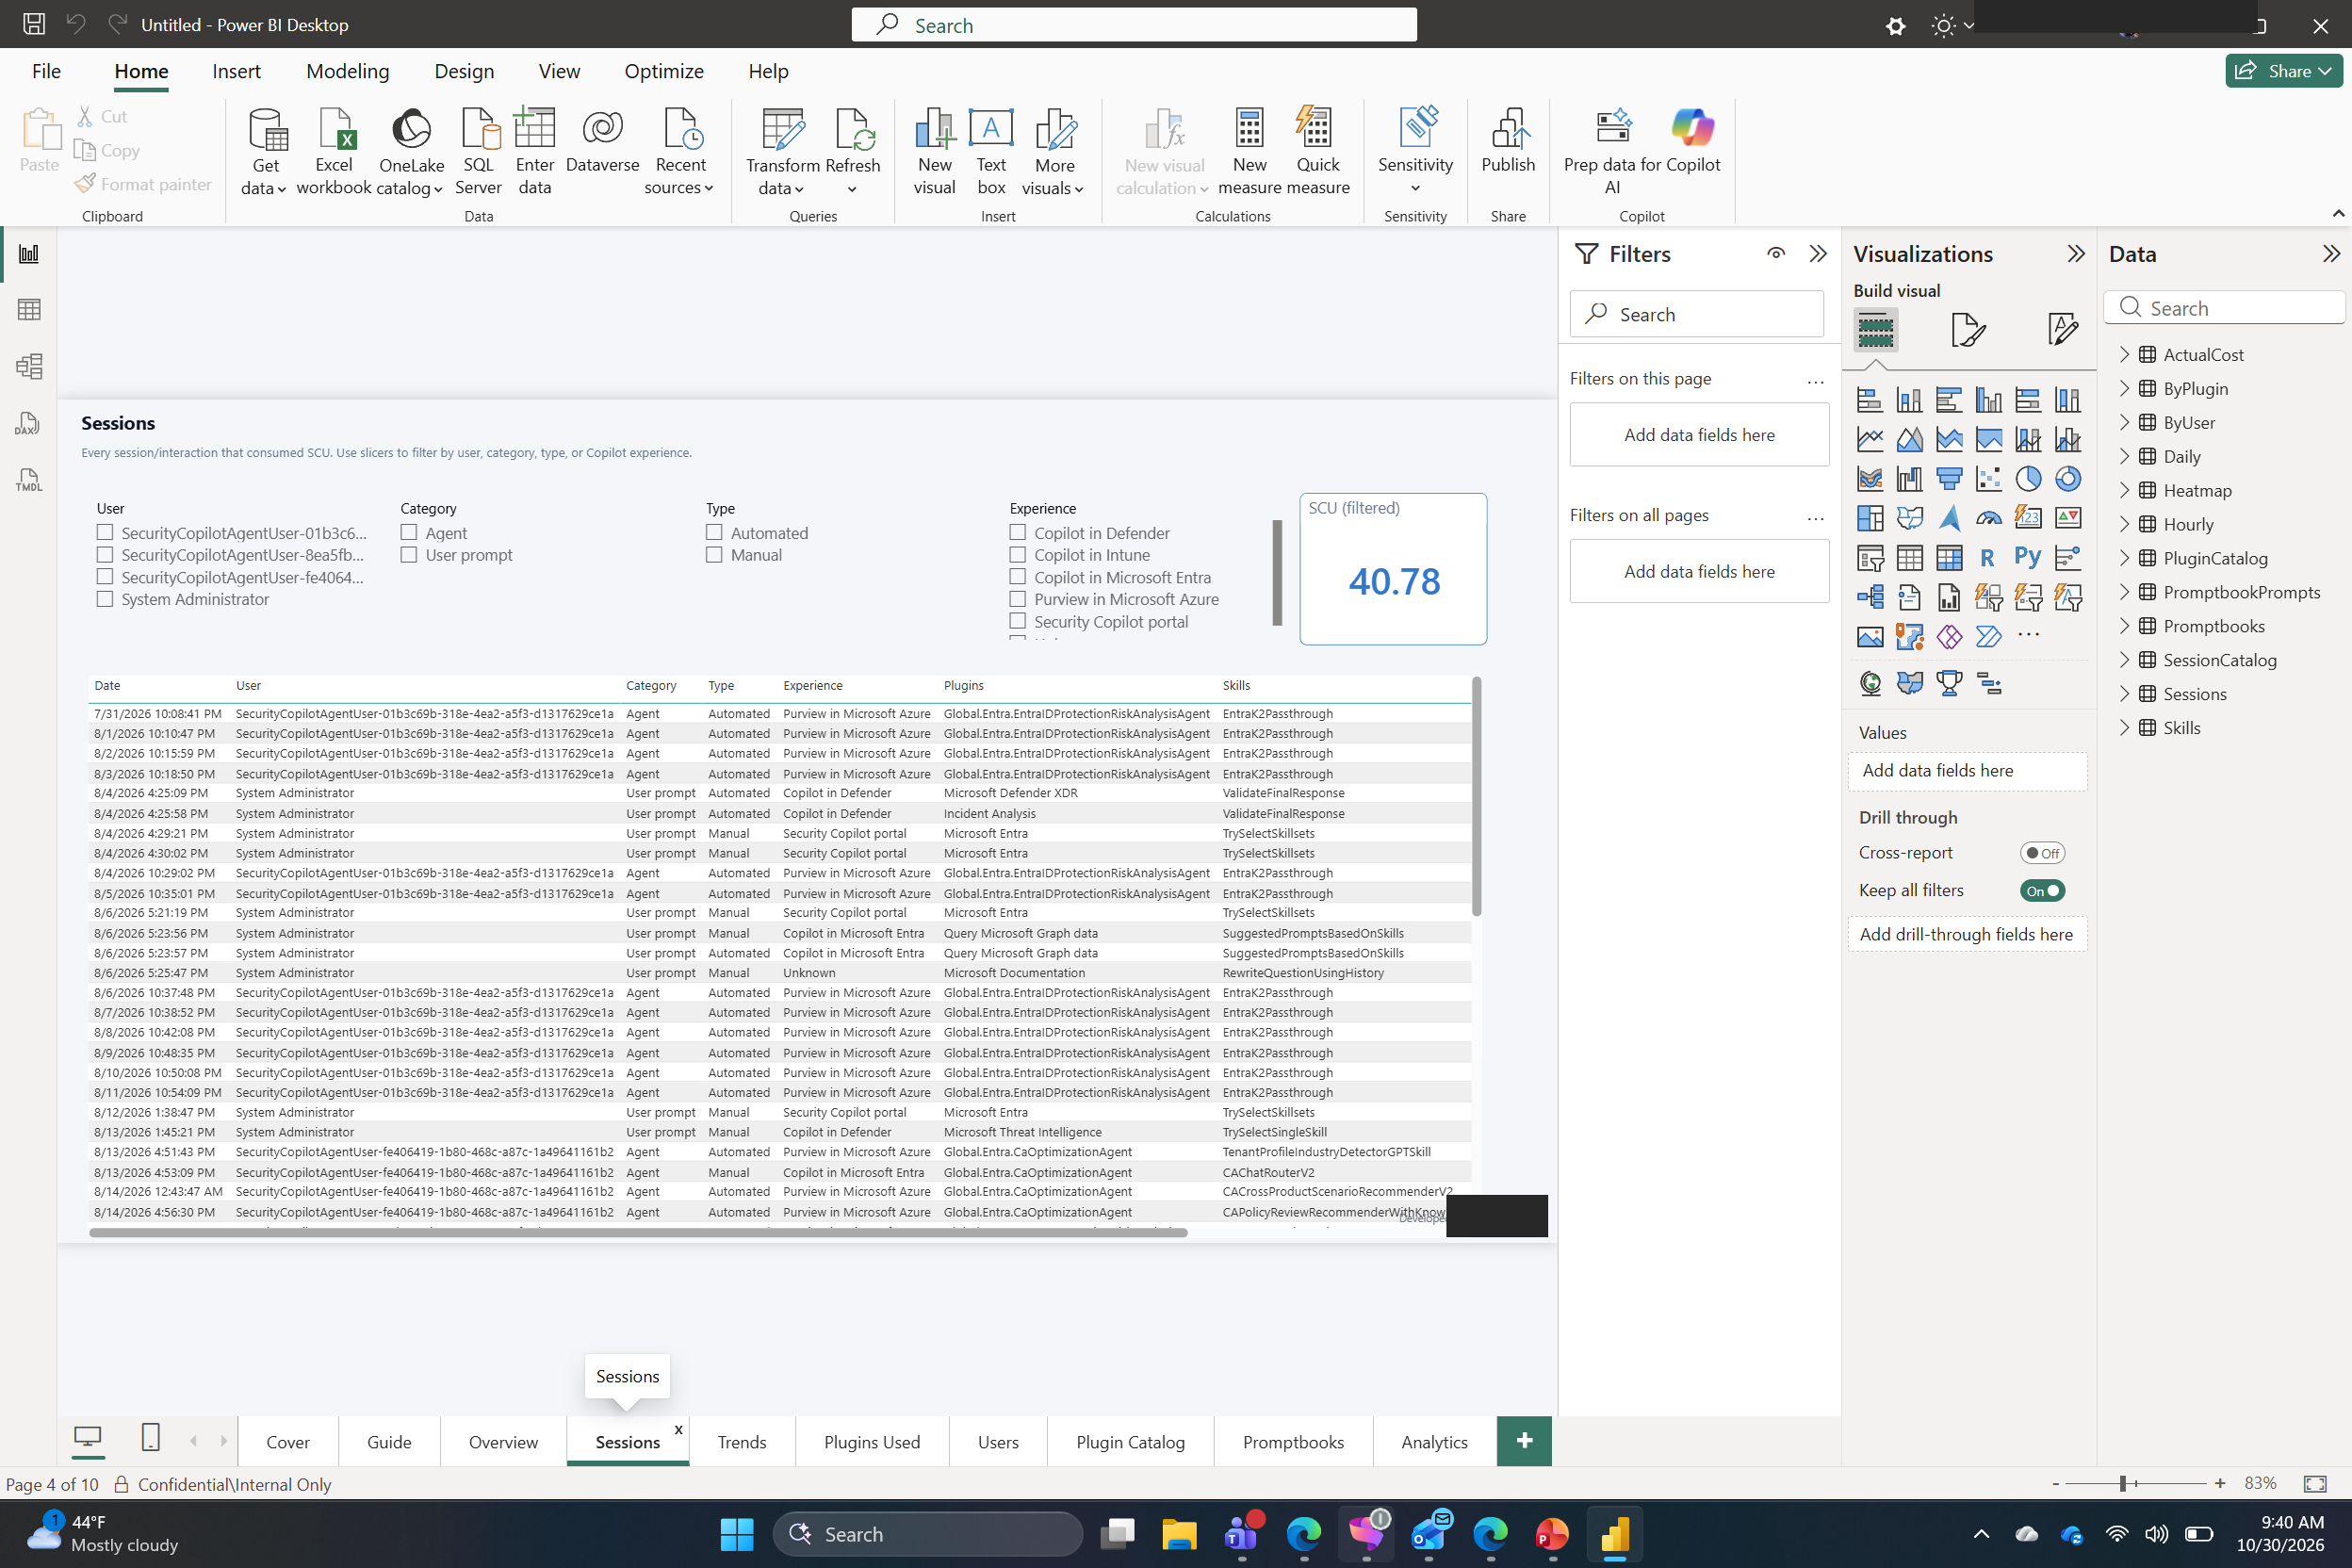

The page's visual inventory and layout, read from the dashboard file:
{"tool":"powerbi","page":{"name":"Sessions","canvas":[1280,720],"ordinal":3},"visuals":[{"type":"textbox","box":[20,8,1240,32],"z":0},{"type":"textbox","box":[20,34,1240,24],"z":0},{"type":"slicer","title":"Filter: User","fields":{"Values":["Sessions.User"]},"box":[20,80,250,130],"z":0},{"type":"slicer","title":"Filter: Category","fields":{"Values":["Sessions.Category"]},"box":[280,80,250,130],"z":0},{"type":"slicer","title":"Filter: Type","fields":{"Values":["Sessions.Type"]},"box":[540,80,250,130],"z":0},{"type":"slicer","title":"Filter: Experience","fields":{"Values":["Sessions.Experience"]},"box":[800,80,250,130],"z":0},{"type":"card","title":"SCU (filtered)","fields":{"Values":["Sessions.Total SCU"]},"box":[1060,80,160,130],"z":0},{"type":"tableEx","title":"All Sessions/Interactions","fields":{"Values":["Sessions.Date","Sessions.User","Sessions.Category","Sessions.Type","Sessions.Experience","Sessions.Plugins","Sessions.Skills","Sessions.SCU_Used","Sessions.SessionId"]},"box":[20,230,1200,490],"z":0},{"type":"textbox","box":[1060,686,200,22],"z":0}]}

Visuals, with their boxes on the page's 1280x720 design canvas (x1, y1, x2, y2). These are canvas units, not pixel positions in the 2352x1568 screenshot, which may show the page scaled, cropped or inside an application window:
textbox: 20:8:1260:40
textbox: 20:34:1260:58
"Filter: User" slicer: 20:80:270:210
"Filter: Category" slicer: 280:80:530:210
"Filter: Type" slicer: 540:80:790:210
"Filter: Experience" slicer: 800:80:1050:210
"SCU (filtered)" card: 1060:80:1220:210
"All Sessions/Interactions" tableEx: 20:230:1220:720
textbox: 1060:686:1260:708
